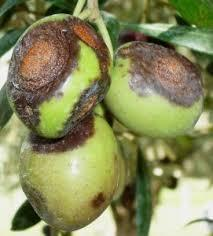Anthracnose: (10, 21, 78, 110), (121, 46, 206, 108), (52, 73, 114, 131), (70, 14, 112, 56)
